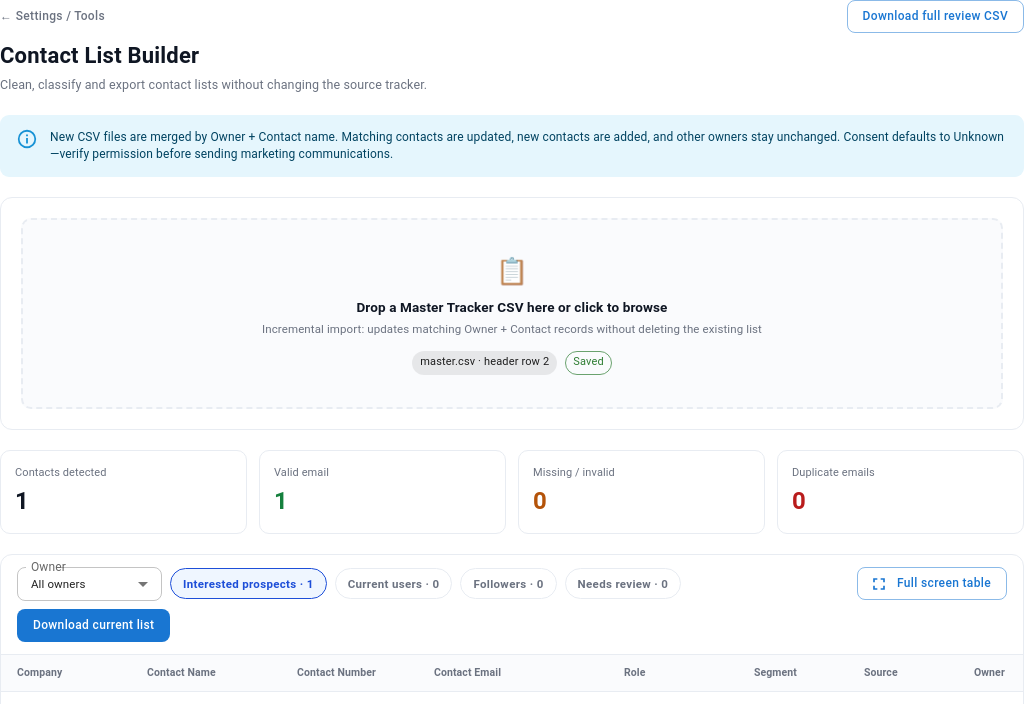
Test: AdminContactListBuilderPage access › opens the editable contact table full screen and exits with Escape
The image size is (1024, 704).
Click the button with aria-label "View table full screen". click: (932, 584)
box: [857,567,1007,600]
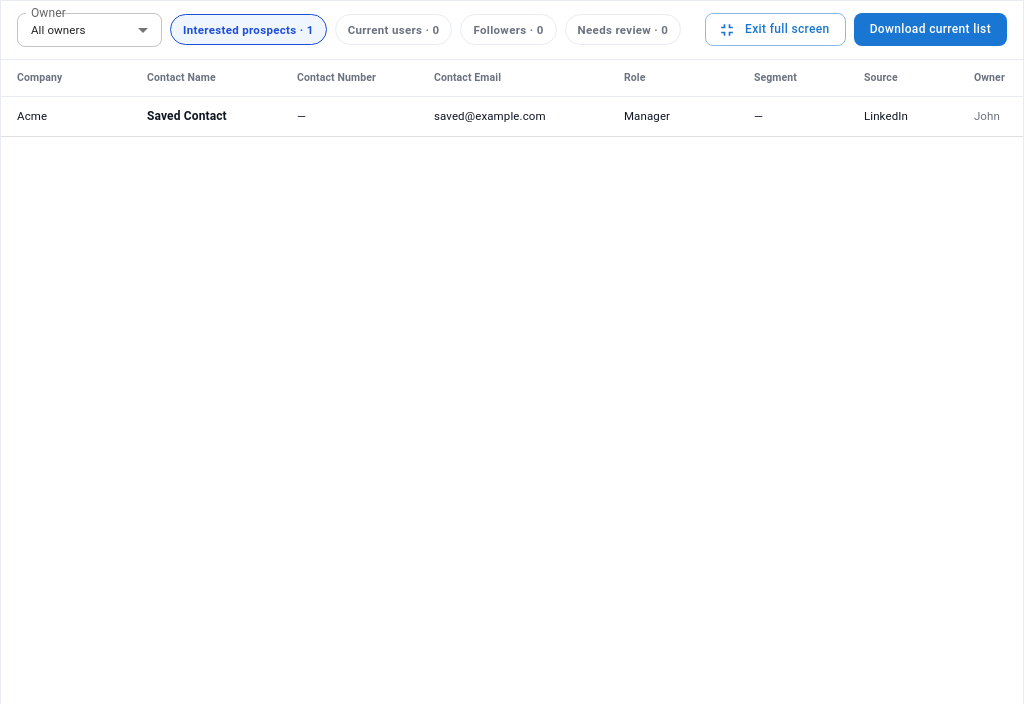
Check: the button with aria-label "Exit full screen table" is shown, box [705,13,846,46]
Press Escape
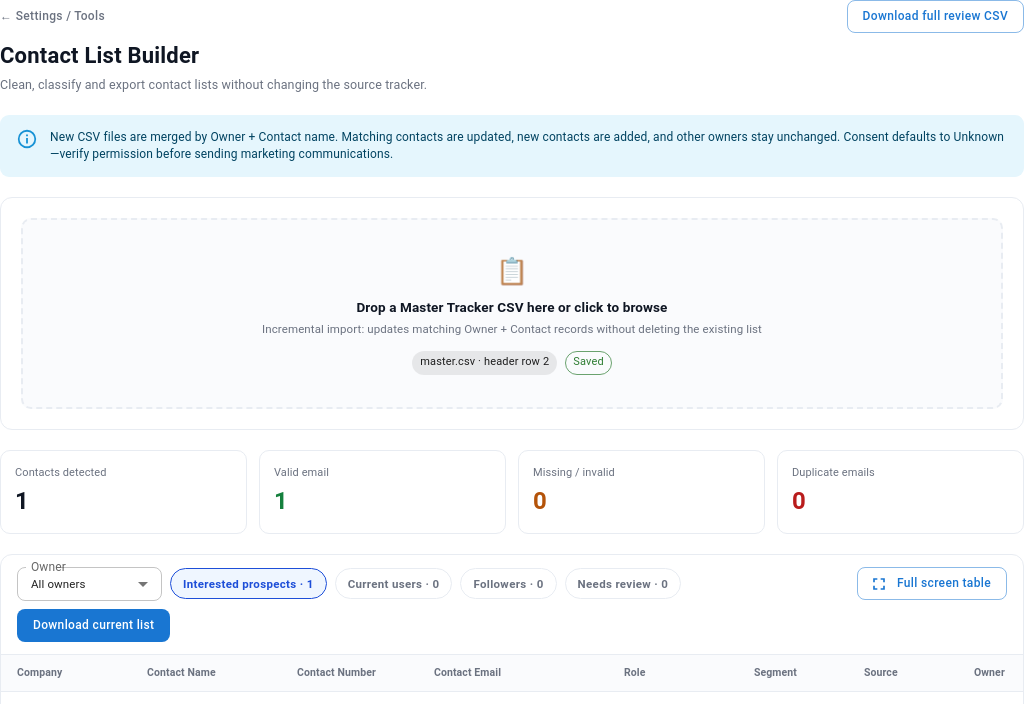
Check: the button with aria-label "View table full screen" is shown, box [857,567,1007,600]
